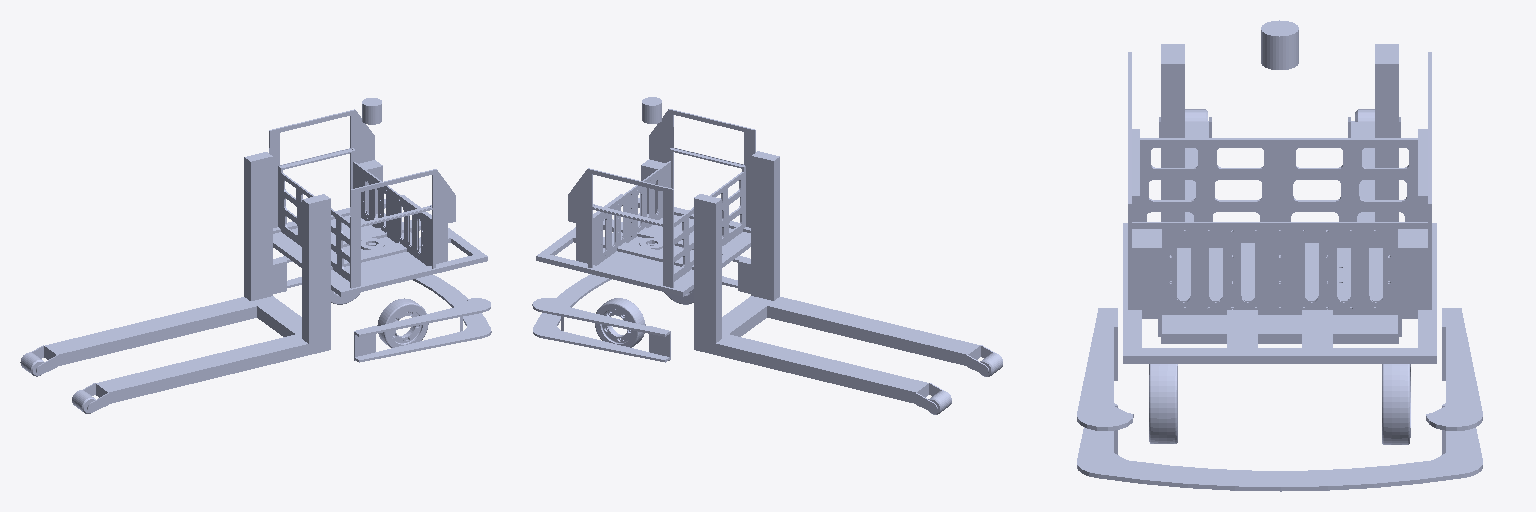
robot.urdf — trialtest1_bot:
<?xml version="1.0" encoding="utf-8"?>
<!-- This URDF was automatically created by SolidWorks to URDF Exporter! Originally created by [author] ([email redacted]) 
     Commit Version: 1.6.0-4-g7f85cfe  Build Version: 1.6.7995.38578
     For more information, please see http://wiki.ros.org/sw_urdf_exporter -->
<robot
  name="trialtest1_bot">
  <link
    name="base_footprint">
    <inertial>
      <origin
        xyz="0 -5.55111512312578E-17 0.0149999999999973"
        rpy="0 0 0" />
      <mass
        value="9.42477796076939E-05" />
      <inertia
        ixx="7.09214541547898E-09"
        ixy="1.01123998265244E-56"
        ixz="-2.73196242009685E-42"
        iyy="7.09214541547898E-09"
        iyz="2.54645439948027E-23"
        izz="4.71238898038469E-11" />
    </inertial>
    <visual>
      <origin
        xyz="0 0 0"
        rpy="0 0 0" />
      <geometry>
        <mesh
          filename="package://trialtest1_bot/meshes/base_footprint.STL" />
      </geometry>
      <material
        name="">
        <color
          rgba="0.792156862745098 0.819607843137255 0.933333333333333 1" />
      </material>
    </visual>
    <collision>
      <origin
        xyz="0 0 0"
        rpy="0 0 0" />
      <geometry>
        <mesh
          filename="package://trialtest1_bot/meshes/base_footprint.STL" />
      </geometry>
    </collision>
  </link>

<!-- BASE LINK -->

  <link
    name="base_link">
    <inertial>
      <origin
        xyz="0.00110889528000799 3.32856702339734E-08 0.0122235365873695"
        rpy="0 0 0" />
      <mass
        value="5.90109462672067" />
      <inertia
        ixx="0.0605687229860901"
        ixy="5.32641028567584E-05"
        ixz="-0.0012057623179896"
        iyy="0.0618059522629774"
        iyz="-3.09471533359218E-05"
        izz="0.0181880890761584" />
    </inertial>
    <visual>
      <origin
        xyz="0 0 0"
        rpy="0 0 0" />
      <geometry>
        <mesh
          filename="package://trialtest1_bot/meshes/base_link.STL" />
      </geometry>
      <material
        name="">
        <color
          rgba="0.792156862745098 0.819607843137255 0.933333333333333 1" />
      </material>
    </visual>
    <collision>
      <origin
        xyz="0 0 0"
        rpy="0 0 0" />
      <geometry>
        <mesh
          filename="package://trialtest1_bot/meshes/base_link.STL" />
      </geometry>
    </collision>
  </link>

  <joint
    name="base_joint"
    type="fixed">
    <origin
      xyz="0 0 0.21"
      rpy="0 0 0" />
    <parent
      link="base_footprint" />
    <child
      link="base_link" />
    <axis
      xyz="0 0 0" />
  </joint>

<!-- LEFT WHEEL LINK -->

  <link
    name="l_wheel_link">
    <inertial>
      <origin
        xyz="-0.000214794745956093 -0.0211659275131799 5.48698625424393E-09"
        rpy="0 0 0" />
      <mass
        value="1.21637660223565" />
      <inertia
        ixx="0.0044425512714785"
        ixy="3.83894161637481E-05"
        ixz="1.30032049861249E-06"
        iyy="0.00822535307271289"
        iyz="-1.32248253370272E-08"
        izz="0.00444401827630389" />
    </inertial>
    <visual>
      <origin
        xyz="0 0 0"
        rpy="0 0 0" />
      <geometry>
        <mesh
          filename="package://trialtest1_bot/meshes/l_wheel_link.STL" />
      </geometry>
      <material
        name="">
        <color
          rgba="0.792156862745098 0.819607843137255 0.933333333333333 1" />
      </material>
    </visual>
    <collision>
      <origin
        xyz="0 0 0"
        rpy="0 0 0" />
      <geometry>
        <mesh
          filename="package://trialtest1_bot/meshes/l_wheel_link.STL" />
      </geometry>
    </collision>
  </link>

  <joint
    name="l_wheel_joint"
    type="continuous">
    <origin
      xyz="0.0027041 0.26649 -0.11"
      rpy="0 0 0" />
    <parent
      link="base_link" />
    <child
      link="l_wheel_link" />
    <axis
      xyz="-0.010147 0.99995 0" />
    <dynamics
      friction="1000" />
  </joint>

<!-- RIGHT WHEEL LINK -->

  <link
    name="r_wheel_link">
    <inertial>
      <origin
        xyz="0.000214762370090854 0.0211659265973297 1.65109665661856E-08"
        rpy="0 0 0" />
      <mass
        value="1.21637691245054" />
      <inertia
        ixx="0.00444196297902202"
        ixy="3.83952491823244E-05"
        ixz="4.92534166186046E-07"
        iyy="0.00822535339679518"
        iyz="-4.92329215348629E-09"
        izz="0.0044446070225373" />
    </inertial>
    <visual>
      <origin
        xyz="0 0 0"
        rpy="0 0 0" />
      <geometry>
        <mesh
          filename="package://trialtest1_bot/meshes/r_wheel_link.STL" />
      </geometry>
      <material
        name="">
        <color
          rgba="0.792156862745098 0.819607843137255 0.933333333333333 1" />
      </material>
    </visual>
    <collision>
      <origin
        xyz="0 0 0"
        rpy="0 0 0" />
      <geometry>
        <mesh
          filename="package://trialtest1_bot/meshes/r_wheel_link.STL" />
      </geometry>
    </collision>
  </link>

  <joint
    name="r_wheel_joint"
    type="continuous">
    <origin
      xyz="-0.0027041 -0.26649 -0.11"
      rpy="0 0 0" />
    <parent
      link="base_link" />
    <child
      link="r_wheel_link" />
    <axis
      xyz="0.010147 0.99995 0" />
    <dynamics
      friction="1000" />
  </joint>

<!-- LASER LINK  -->

  <link
    name="laser_link">
    <inertial>
      <origin
        xyz="2.77555756156289E-17 1.11022302462516E-16 -0.0394999999999996"
        rpy="0 0 0" />
      <mass
        value="0.39709731141375" />
      <inertia
        ixx="0.000365362617943268"
        ixy="2.52855548134943E-51"
        ixz="-1.21245706409418E-36"
        iyy="0.000365362617943268"
        iyz="1.53831787512683E-19"
        izz="0.000317677849131001" />
    </inertial>
    <visual>
      <origin
        xyz="0 0 0"
        rpy="0 0 0" />
      <geometry>
        <mesh
          filename="package://trialtest1_bot/meshes/laser_link.STL" />
      </geometry>
      <material
        name="">
        <color
          rgba="0.792156862745098 0.819607843137255 0.933333333333333 1" />
      </material>
    </visual>
    <collision>
      <origin
        xyz="0 0 0"
        rpy="0 0 0" />
      <geometry>
        <mesh
          filename="package://trialtest1_bot/meshes/laser_link.STL" />
      </geometry>
    </collision>
  </link>

  <joint
    name="laser_joint"
    type="fixed">
    <origin
      xyz="0 0 0.747"
      rpy="0 0 0" />
    <parent
      link="base_link" />
    <child
      link="laser_link" />
    <axis
      xyz="0 0 0" />
  </joint>

<!-- FORK LINK  -->

 <link
    name="fork_link">
    <inertial>
      <origin
        xyz="-0.426079479774615 0.00022916320694906 -0.085650941266426"
        rpy="0 0 0" />
      <mass
        value="26.6907913676592" />
      <inertia
        ixx="1.9864898873301"
        ixy="0.000356816119490011"
        ixz="-0.742877382061149"
        iyy="3.95317442770865"
        iyz="-0.000630357330742588"
        izz="4.52285242374727" />
    </inertial>
    <visual>
      <origin
        xyz="0 0 0"
        rpy="0 0 0" />
      <geometry>
        <mesh
          filename="package://trialtest1_bot/meshes/fork_link.STL" />
      </geometry>
      <material
        name="">
        <color
          rgba="0.792156862745098 0.819607843137255 0.933333333333333 1" />
      </material>
    </visual>
    <collision>
      <origin
        xyz="0 0 0"
        rpy="0 0 0" />
      <geometry>
        <mesh
          filename="package://trialtest1_bot/meshes/fork_link.STL" />
      </geometry>
    </collision>
  </link>

  <joint
    name="fork_joint"
    type="revolute">
    <origin
      xyz="0 0 0.12"
      rpy="0 0 0" />
    <parent
      link="base_link" />
    <child
      link="fork_link" />
    <axis
      xyz="0 0 -1" />
    <limit lower="-0.88" upper="0.88" effort="5" velocity="1.0"/>
  </joint>

<transmission name="fork_joint_transmission">
  <type>transmission_interface/SimpleTransmission</type>
    <joint name="fork_joint">
    <hardwareInterface>hardware_interface/PositionJointInterface</hardwareInterface>
  </joint>
  <actuator name="fork_motor">
    <mechanicalReduction>1.0</mechanicalReduction>
    <hardwareInterface>hardware_interface/EffortJointInterface</hardwareInterface>
  </actuator>
</transmission>

  <gazebo>
    <plugin name="gazebo_ros_control" filename="libgazebo_ros_control.so">
      <robotNamespace>/trialtest1_bot</robotNamespace>
    </plugin>
  </gazebo>

<!-- LEFT ROLLER LINK -->

  <link
    name="l_roller_link">
    <inertial>
      <origin
        xyz="-2.22044604925031E-16 0.0450000000000001 3.33066907387547E-16"
        rpy="0 0 0" />
      <mass
        value="0.312850268419892" />
      <inertia
        ixx="0.00030732466509109"
        ixy="2.96968961101246E-19"
        ixz="-2.72716822202048E-21"
        iyy="0.000204892709371601"
        iyz="2.12585417426128E-19"
        izz="0.00030732466509109" />
    </inertial>
    <visual>
      <origin
        xyz="0 0 0"
        rpy="0 0 0" />
      <geometry>
        <mesh
          filename="package://trialtest1_bot/meshes/l_roller_link.STL" />
      </geometry>
      <material
        name="">
        <color
          rgba="0.792156862745098 0.819607843137255 0.933333333333333 1" />
      </material>
    </visual>
    <collision>
      <origin
        xyz="0 0 0"
        rpy="0 0 0" />
      <geometry>
        <mesh
          filename="package://trialtest1_bot/meshes/l_roller_link.STL" />
      </geometry>
    </collision>
  </link>

<!-- LEFT ROLLER JOINT -->

  <joint
    name="l_roller_joint"
    type="continuous">
    <origin
      xyz="-1.405 0.159 -0.255"
      rpy="0 0 0" />
    <parent
      link="fork_link" />
    <child
      link="l_roller_link" />
    <axis
      xyz="0 1 0" />
    <dynamics
      friction="0.1" />
  </joint>

<!-- RIGHT ROLLER LINK -->

  <link
    name="r_roller_link">
    <inertial>
      <origin
        xyz="2.22044604925031E-16 -0.0449999999999999 3.33066907387547E-16"
        rpy="0 0 0" />
      <mass
        value="0.312850268419892" />
      <inertia
        ixx="0.000307324665091091"
        ixy="2.97604235811687E-19"
        ixz="-2.49320621385971E-21"
        iyy="0.000204892709371601"
        iyz="1.79623924377115E-19"
        izz="0.000307324665091091" />
    </inertial>
    <visual>
      <origin
        xyz="0 0 0"
        rpy="0 0 0" />
      <geometry>
        <mesh
          filename="package://trialtest1_bot/meshes/r_roller_link.STL" />
      </geometry>
      <material
        name="">
        <color
          rgba="0.792156862745098 0.819607843137255 0.933333333333333 1" />
      </material>
    </visual>
    <collision>
      <origin
        xyz="0 0 0"
        rpy="0 0 0" />
      <geometry>
        <mesh
          filename="package://trialtest1_bot/meshes/r_roller_link.STL" />
      </geometry>
    </collision>
  </link>
 
  <joint
    name="r_roller_joint"
    type="continuous">
    <origin
      xyz="-1.405 -0.151 -0.255"
      rpy="0 0 0" />
    <parent
      link="fork_link" />
    <child
      link="r_roller_link" />
    <axis
      xyz="0 1 0" />
    <dynamics
      friction="0.1" />
  </joint>

<!-- GAZEBO PLUGINS -->

  <gazebo reference="laser_link">
    <material>Gazebo/FlatBlack</material>
    <sensor type="ray" name="lds_lfcd_sensor">
      <pose>0 0 0 0 0 0</pose>
      <visualize>true</visualize>
      <update_rate>5</update_rate>
      <ray>
        <scan>
          <horizontal>
            <samples>760</samples>
            <resolution>1</resolution>
            <min_angle>0.0</min_angle>
            <max_angle>6.28319</max_angle>
          </horizontal>
        </scan>
        <range>
          <min>0.120</min>
          <max>3.5</max>
          <resolution>0.015</resolution>
        </range>
        <noise>
          <type>gaussian</type>
          <mean>0.0</mean>
          <stddev>0.01</stddev>
        </noise>
      </ray>
      <plugin name="gazebo_ros_lds_lfcd_controller" filename="libgazebo_ros_laser.so">
        <topicName>scan</topicName>
        <frameName>laser_link</frameName>
      </plugin>
    </sensor>
  </gazebo>

<gazebo>
  <plugin name="differential_drive_controller" filename="libgazebo_ros_diff_drive.so">

    <!-- Plugin update rate in Hz -->
    <updateRate>10</updateRate>

    <!-- Name of left joint, defaults to `left_joint` -->
    <leftJoint>l_wheel_joint</leftJoint>

    <!-- Name of right joint, defaults to `right_joint` -->
    <rightJoint>r_wheel_joint</rightJoint>

    <!-- The distance from the center of one wheel to the other, in meters, defaults to 0.34 m -->
    <wheelSeparation>0.5380</wheelSeparation>

    <!-- Diameter of the wheels, in meters, defaults to 0.15 m -->
    <wheelDiameter>0.2410</wheelDiameter>

    <!-- Wheel acceleration, in rad/s^2, defaults to 0.0 rad/s^2 -->
    <wheelAcceleration>1.0</wheelAcceleration>

    <!-- Maximum torque which the wheels can produce, in Nm, defaults to 5 Nm -->
    <wheelTorque>20</wheelTorque>

    <!-- Topic to receive geometry_msgs/Twist message commands, defaults to `cmd_vel` -->
    <commandTopic>cmd_vel</commandTopic>

    <!-- Topic to publish nav_msgs/Odometry messages, defaults to `odom` -->
    <odometryTopic>odom</odometryTopic>

    <!-- Odometry frame, defaults to `odom` -->
    <odometryFrame>odom</odometryFrame>

    <!-- Robot frame to calculate odometry from, defaults to `base_footprint` -->
    <robotBaseFrame>base_link</robotBaseFrame>

    <!-- Odometry source, 0 for ENCODER, 1 for WORLD, defaults to WORLD -->
    <odometrySource>1</odometrySource>

    <!-- Set to true to publish transforms for the wheel links, defaults to false -->
    <publishWheelTF>false</publishWheelTF>

    <!-- Set to true to publish transforms for the odometry, defaults to true -->
    <publishOdom>true</publishOdom>

    <!-- Set to true to publish sensor_msgs/JointState on /joint_states for the wheel joints, defaults to false -->
    <publishWheelJointState>false</publishWheelJointState>

    <!-- Set to true to swap right and left wheels, defaults to true -->
    <legacyMode>false</legacyMode>
  </plugin>
</gazebo>

</robot>

--- Render facts (derived) ---
Views: 3 orthographic renders of the robot side by side, from view 1: azimuth 30°, elevation 25°; view 2: azimuth 150°, elevation 25°; view 3: azimuth 270°, elevation 25°.
Model trialtest1_bot with 8 links and 7 joints (1 revolute, 4 continuous, 2 fixed), rooted at base_footprint, posed every joint at zero.
Visible links, largest first — view 1: fork_link, r_wheel_link; view 2: fork_link, l_wheel_link; view 3: fork_link, l_wheel_link, r_wheel_link, laser_link.
Boxes of the visible links, box(x1,y1,x2,y2) form: fork_link: box(31, 109, 491, 411); r_wheel_link: box(377, 298, 428, 347); fork_link: box(532, 109, 994, 411); l_wheel_link: box(595, 298, 645, 347); fork_link: box(1077, 44, 1482, 491); l_wheel_link: box(1382, 364, 1410, 444); r_wheel_link: box(1149, 364, 1177, 443); laser_link: box(1261, 20, 1298, 69).
Bounding box of the posed robot: 1.82 × 0.8562 × 0.9579 m (x, y, z).
7 mesh visuals loaded from 8 distinct referenced files (7 binary STL); not drawn: 1 (reference not matched to a file when rendering).
